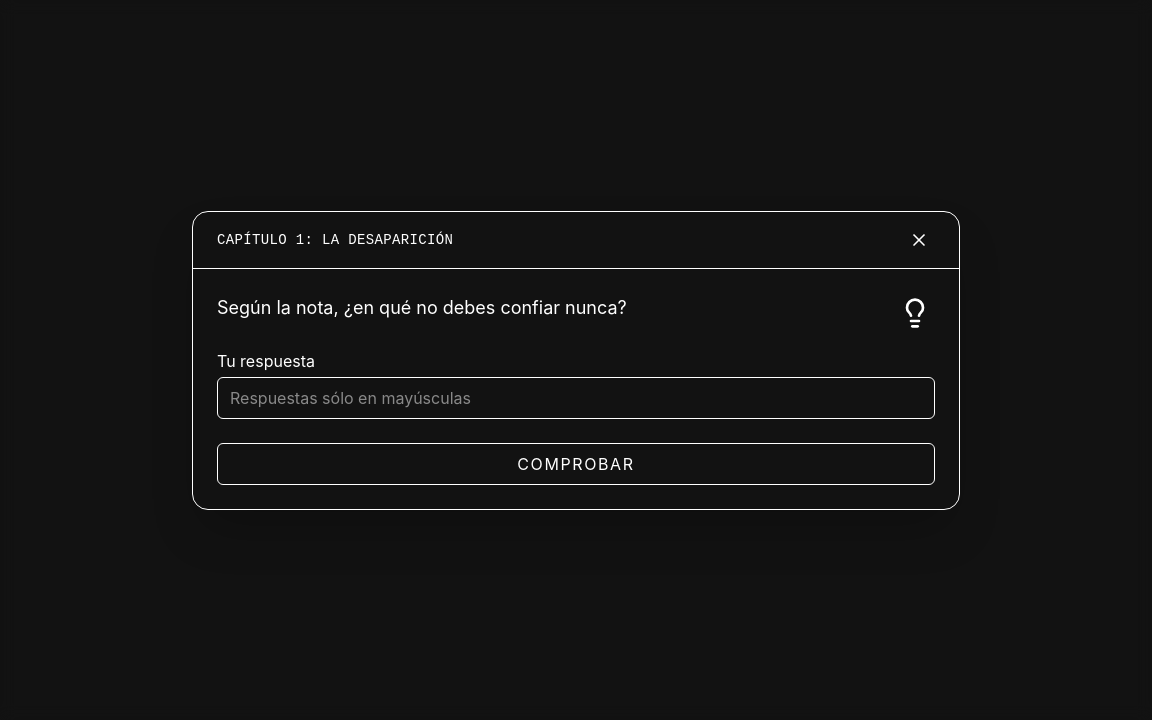
it: PuzzleWindow › asks for a hint and shows its text when it is opened
This screenshot has width=1152, height=720.
Click the button named "Pistas": (915, 312) [895,292,935,332]
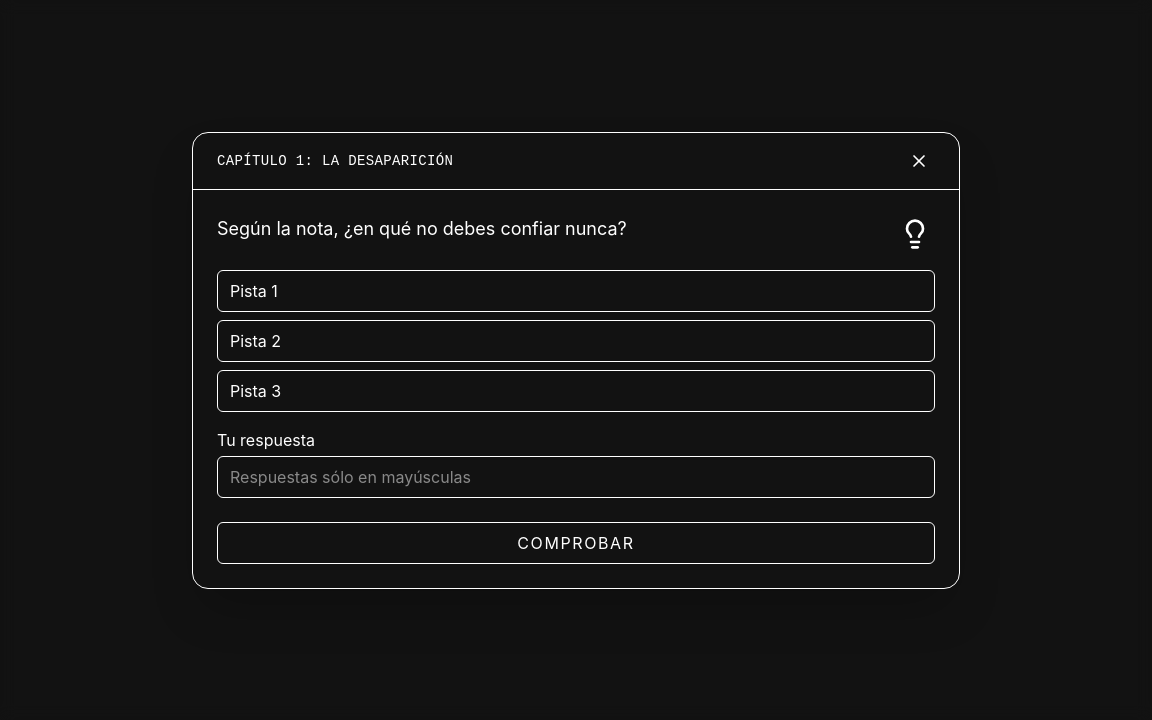
Click the button "Pista 1": (254, 290) [217,270,935,312]
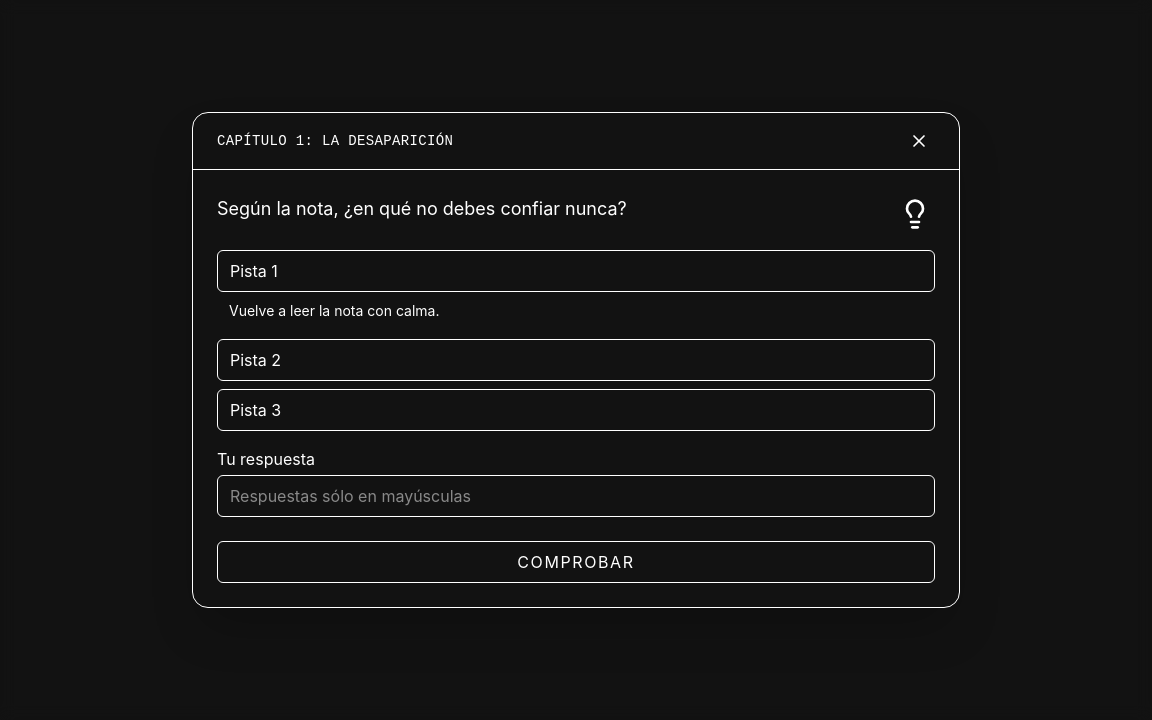
Check: the button "Pista 1" is expanded, box [217,250,935,292]
Check: the text "Vuelve a leer la nota con calma." is shown, box [229,302,439,319]
